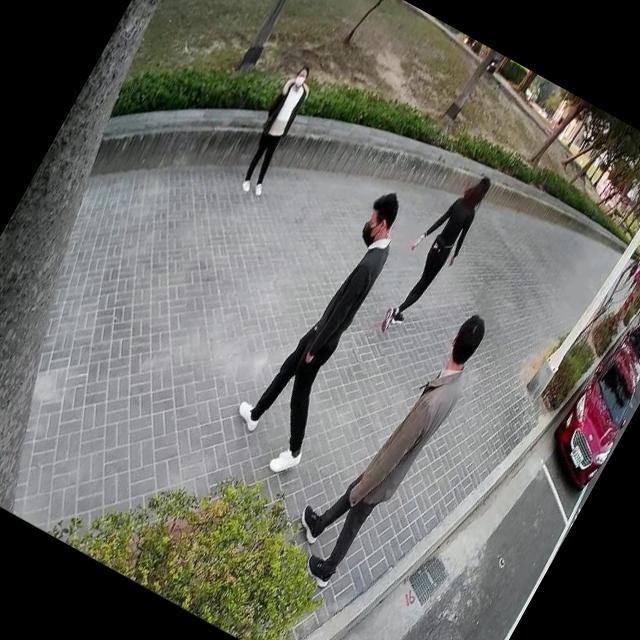person: (272, 279, 502, 602), (215, 170, 442, 484), (362, 152, 505, 355), (226, 56, 327, 198)
